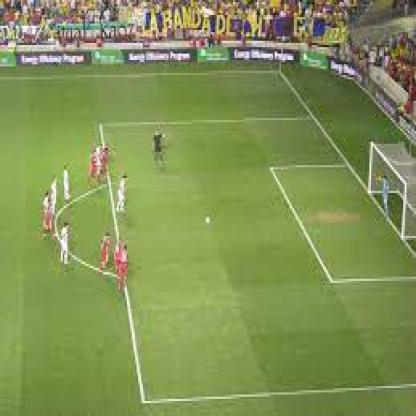penalty kick: (109, 119, 409, 241)
